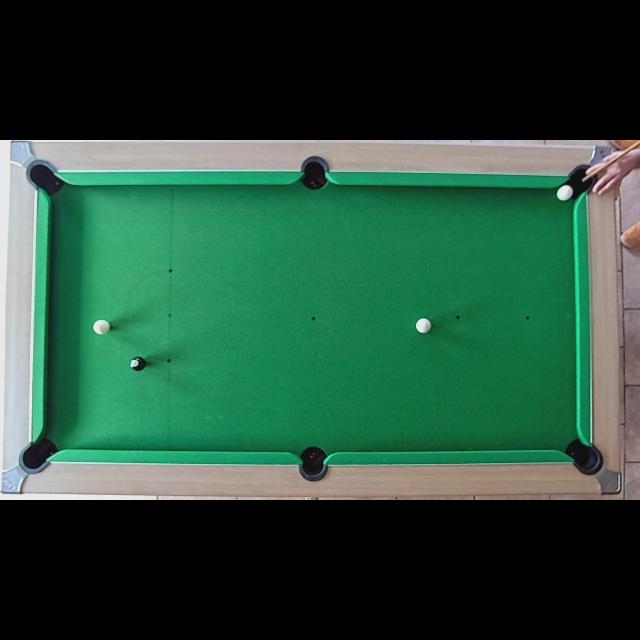Ball: (94, 319, 110, 335), (416, 318, 432, 334), (130, 356, 144, 370), (558, 186, 572, 200)
